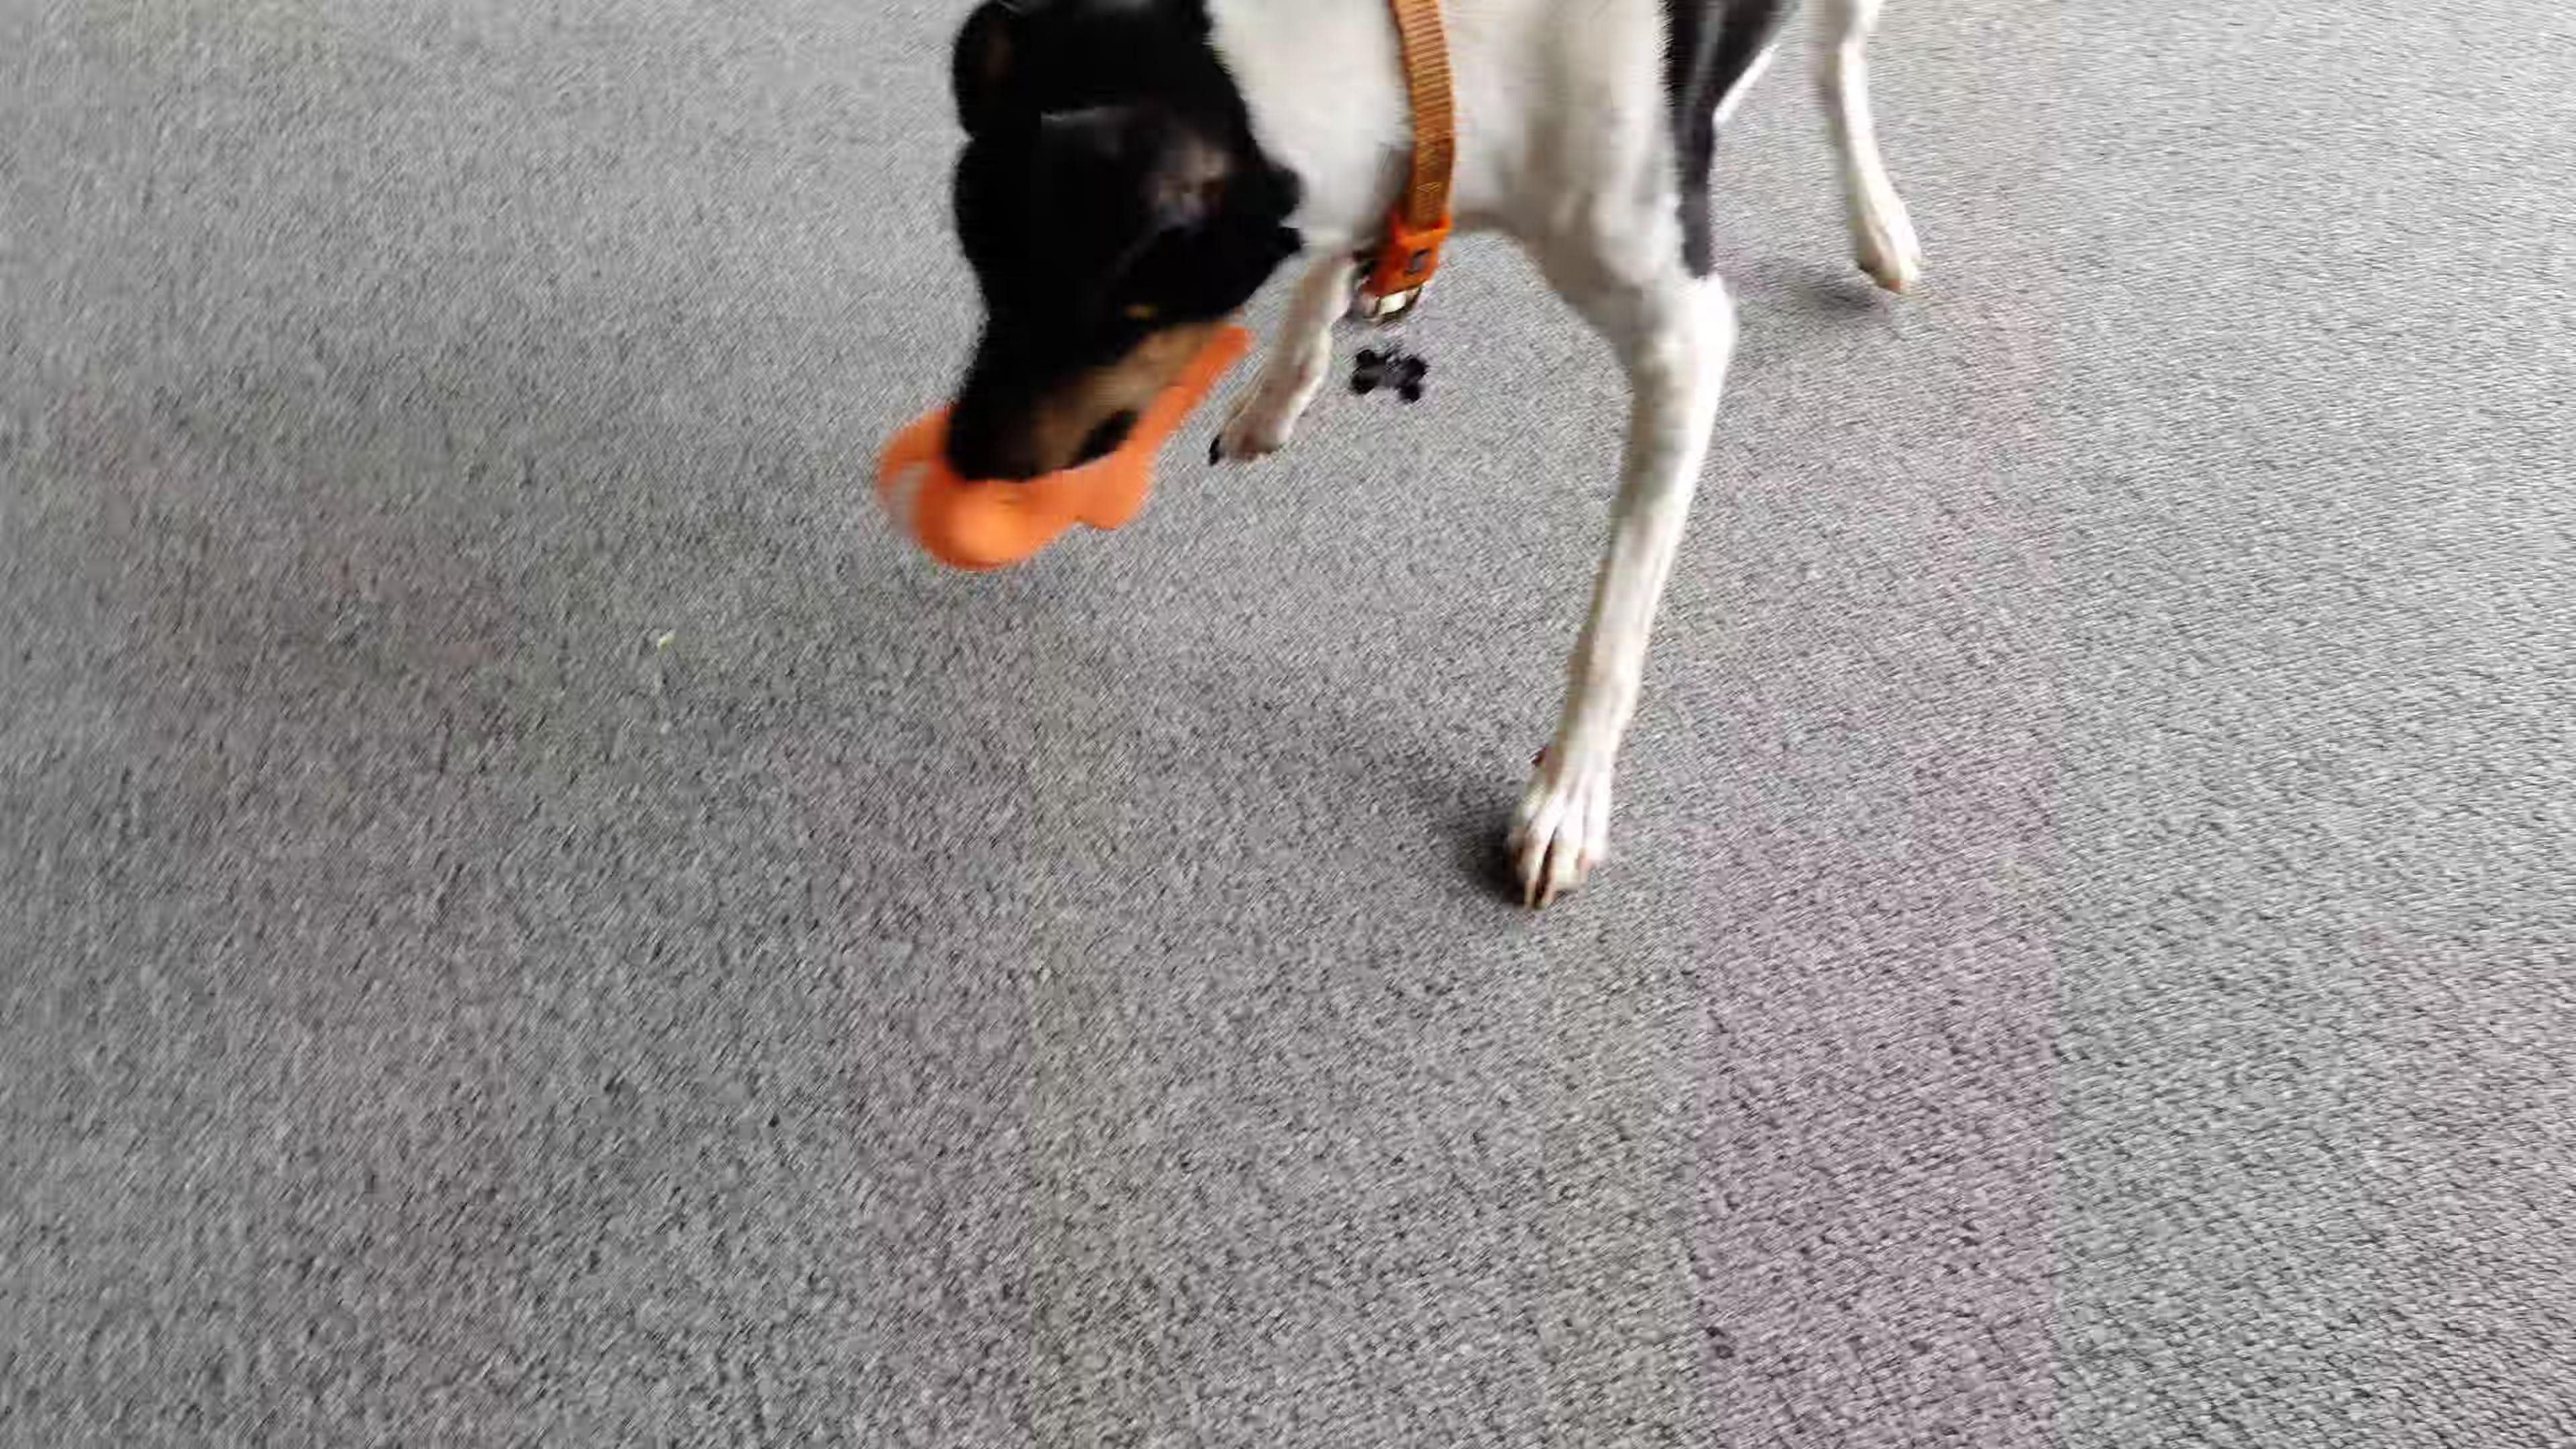Dog: (931, 0, 1941, 916)
